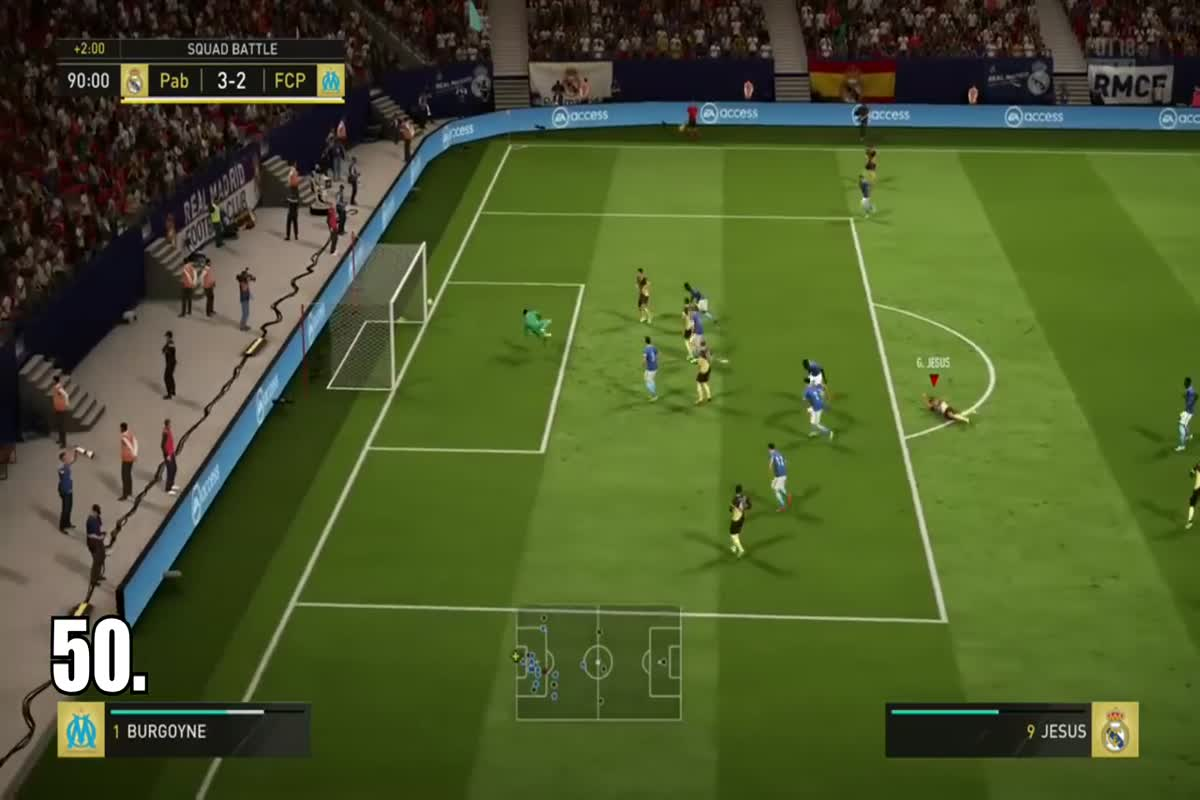ball: (422, 292, 440, 309)
